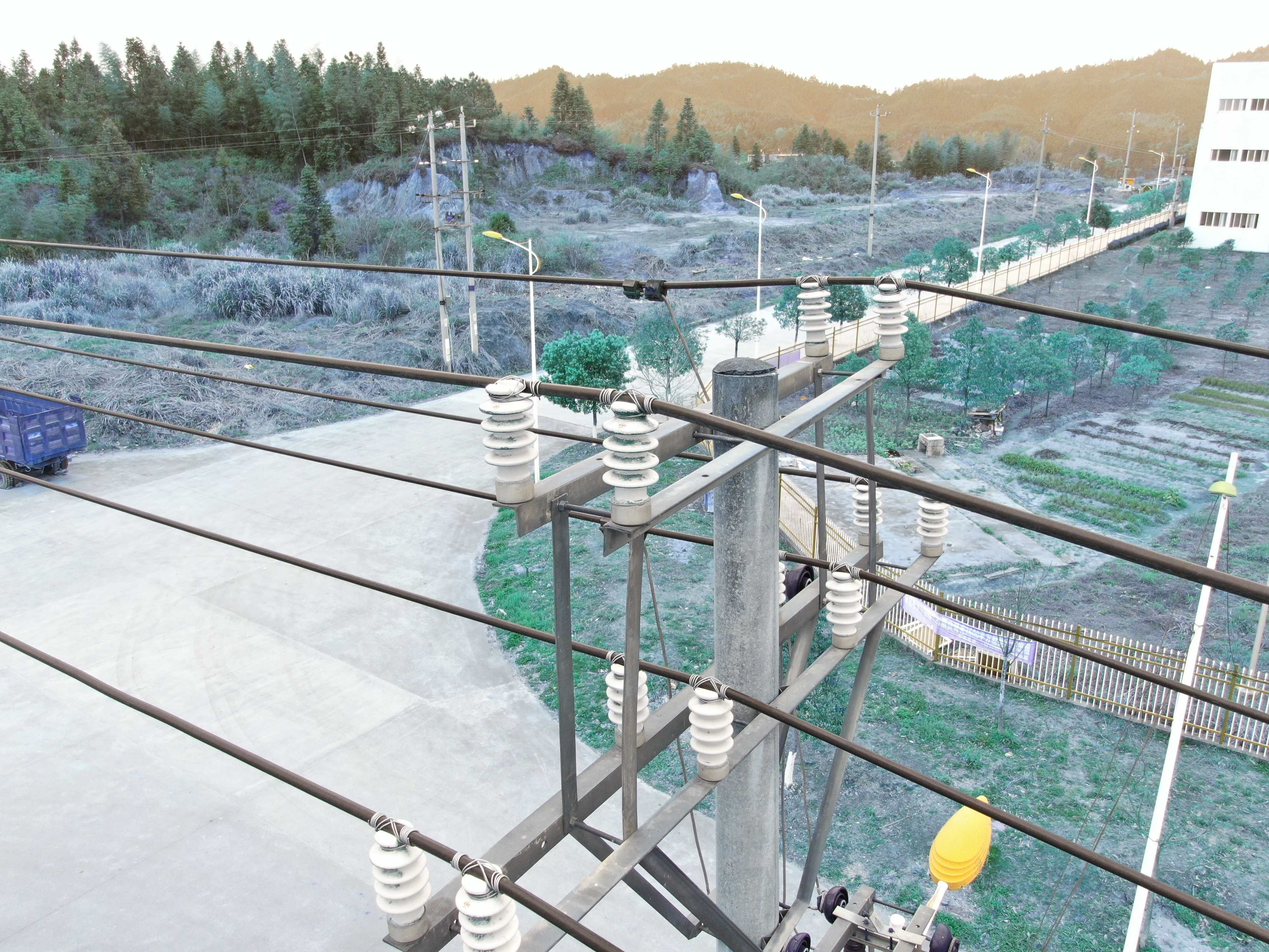severe_soiling_no_discharge_whole: (367, 815, 433, 944), (477, 375, 541, 506), (599, 398, 662, 526), (452, 858, 523, 950), (869, 285, 911, 362), (795, 281, 835, 359), (850, 483, 886, 547), (915, 495, 950, 558)
